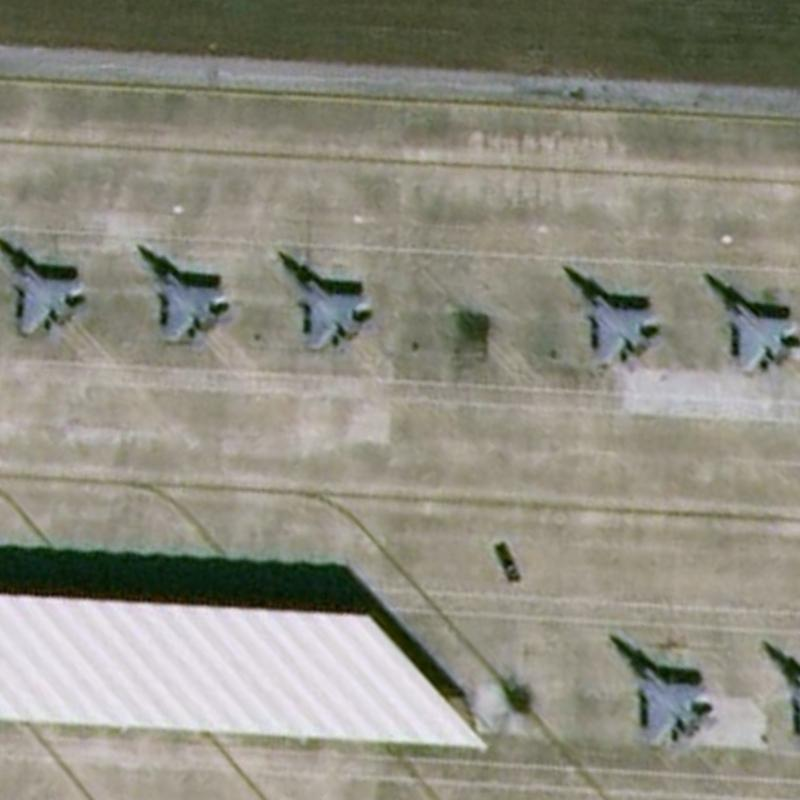A13: (602, 629, 722, 753), (557, 261, 668, 371), (699, 265, 799, 381), (271, 244, 376, 354), (133, 240, 236, 351), (0, 232, 88, 347)
